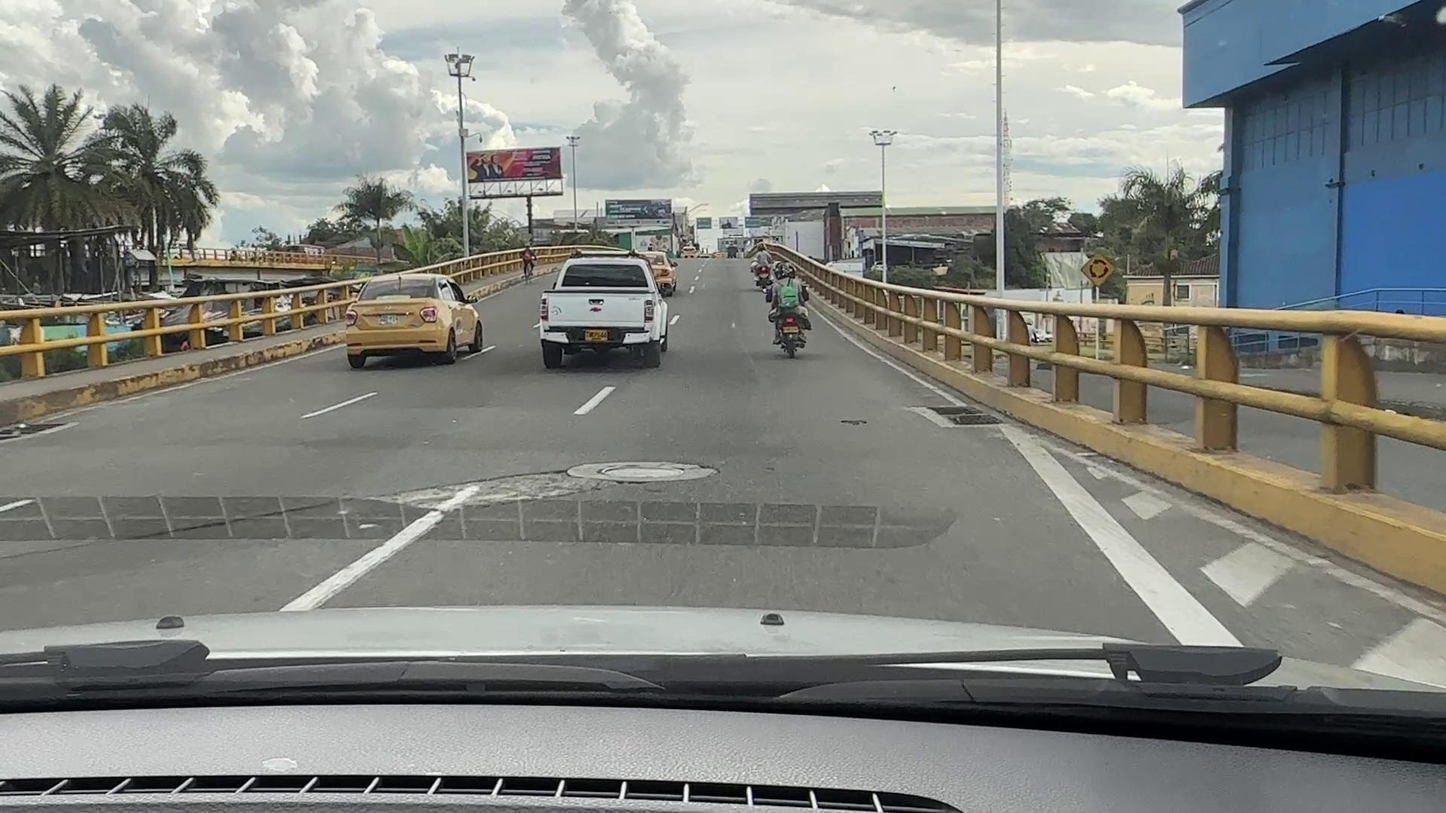bache: (389, 471, 612, 511), (841, 419, 866, 425)
registro: (605, 466, 683, 477)
rejilla: (930, 406, 1006, 427), (0, 423, 68, 440)
